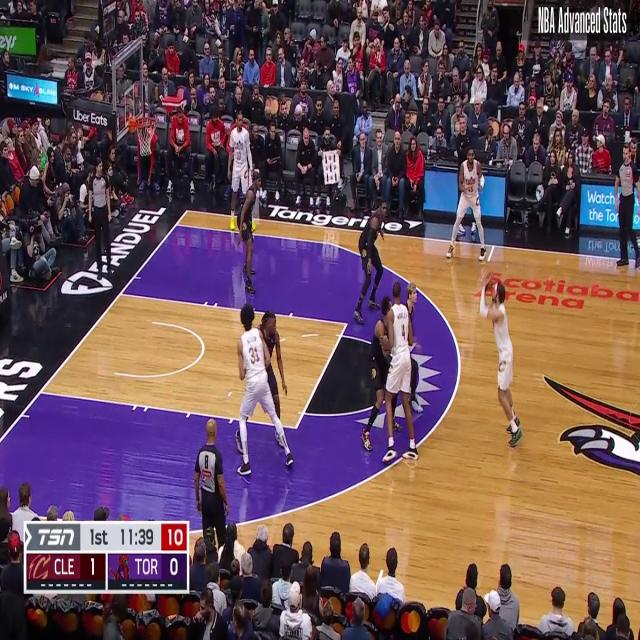ball: (481, 270, 494, 294)
judge: (195, 419, 230, 561), (614, 144, 640, 270), (90, 158, 114, 276)
player: (237, 308, 294, 470), (475, 273, 522, 447), (382, 282, 419, 464), (363, 302, 398, 450), (445, 144, 484, 264), (354, 203, 386, 328), (237, 169, 265, 295), (226, 111, 252, 228)
